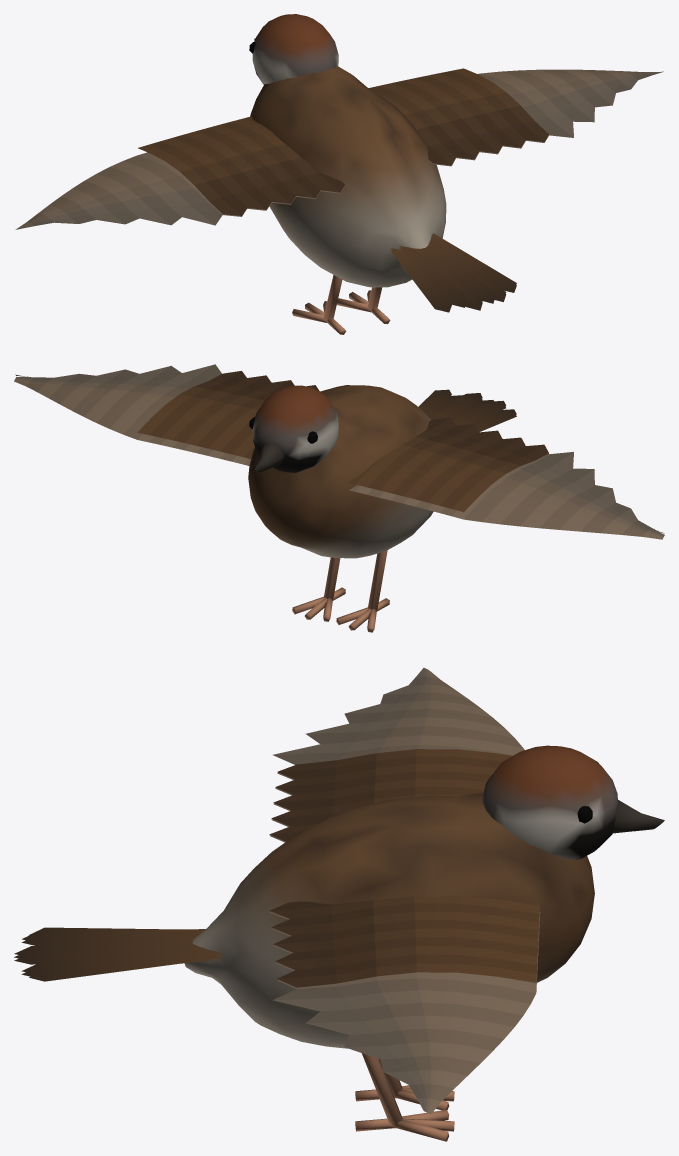
The model's file is bird_sparrow.glb.
3 views of the same model, one above another, from view 1: azimuth 30°, elevation 25°; view 2: azimuth 150°, elevation 25°; view 3: azimuth 270°, elevation 25° (orthographic). The views are drawn at different scales.
Visible parts, largest first — view 1: Body, WingL, WingR, WingL2, WingR2, Tail, Head, Legs; view 2: Body, WingL, WingL2, WingR, WingR2, Head, Tail, Legs; view 3: Body, WingR, WingR2, Head, WingL, WingL2, Tail, Legs.
Boxes of the visible parts, x1,y1,x2,y2 form: Body: [250, 66, 446, 287]; WingL: [138, 116, 344, 216]; WingR: [369, 68, 548, 166]; WingL2: [15, 155, 222, 229]; WingR2: [478, 69, 663, 137]; Tail: [390, 233, 516, 312]; Head: [249, 14, 338, 84]; Legs: [292, 275, 390, 334]; Body: [248, 385, 433, 558]; WingL: [347, 417, 548, 519]; WingL2: [464, 452, 664, 539]; WingR: [137, 371, 319, 465]; WingR2: [14, 364, 221, 439]; Head: [249, 385, 338, 472]; Tail: [418, 389, 516, 431]; Legs: [292, 550, 389, 632]; Body: [184, 792, 594, 1048]; WingR: [269, 895, 540, 992]; WingR2: [272, 978, 536, 1114]; Head: [482, 745, 664, 859]; WingL: [269, 749, 512, 842]; WingL2: [273, 667, 524, 764]; Tail: [14, 927, 223, 981]; Legs: [355, 1053, 454, 1141].
Size of the model in its own units: 0.2872 by 0.1101 by 0.1782.
